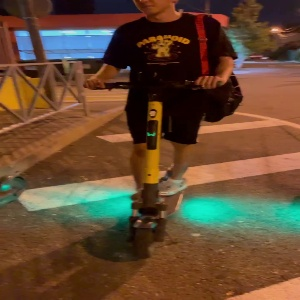human on a scooter: (83, 1, 246, 260)
